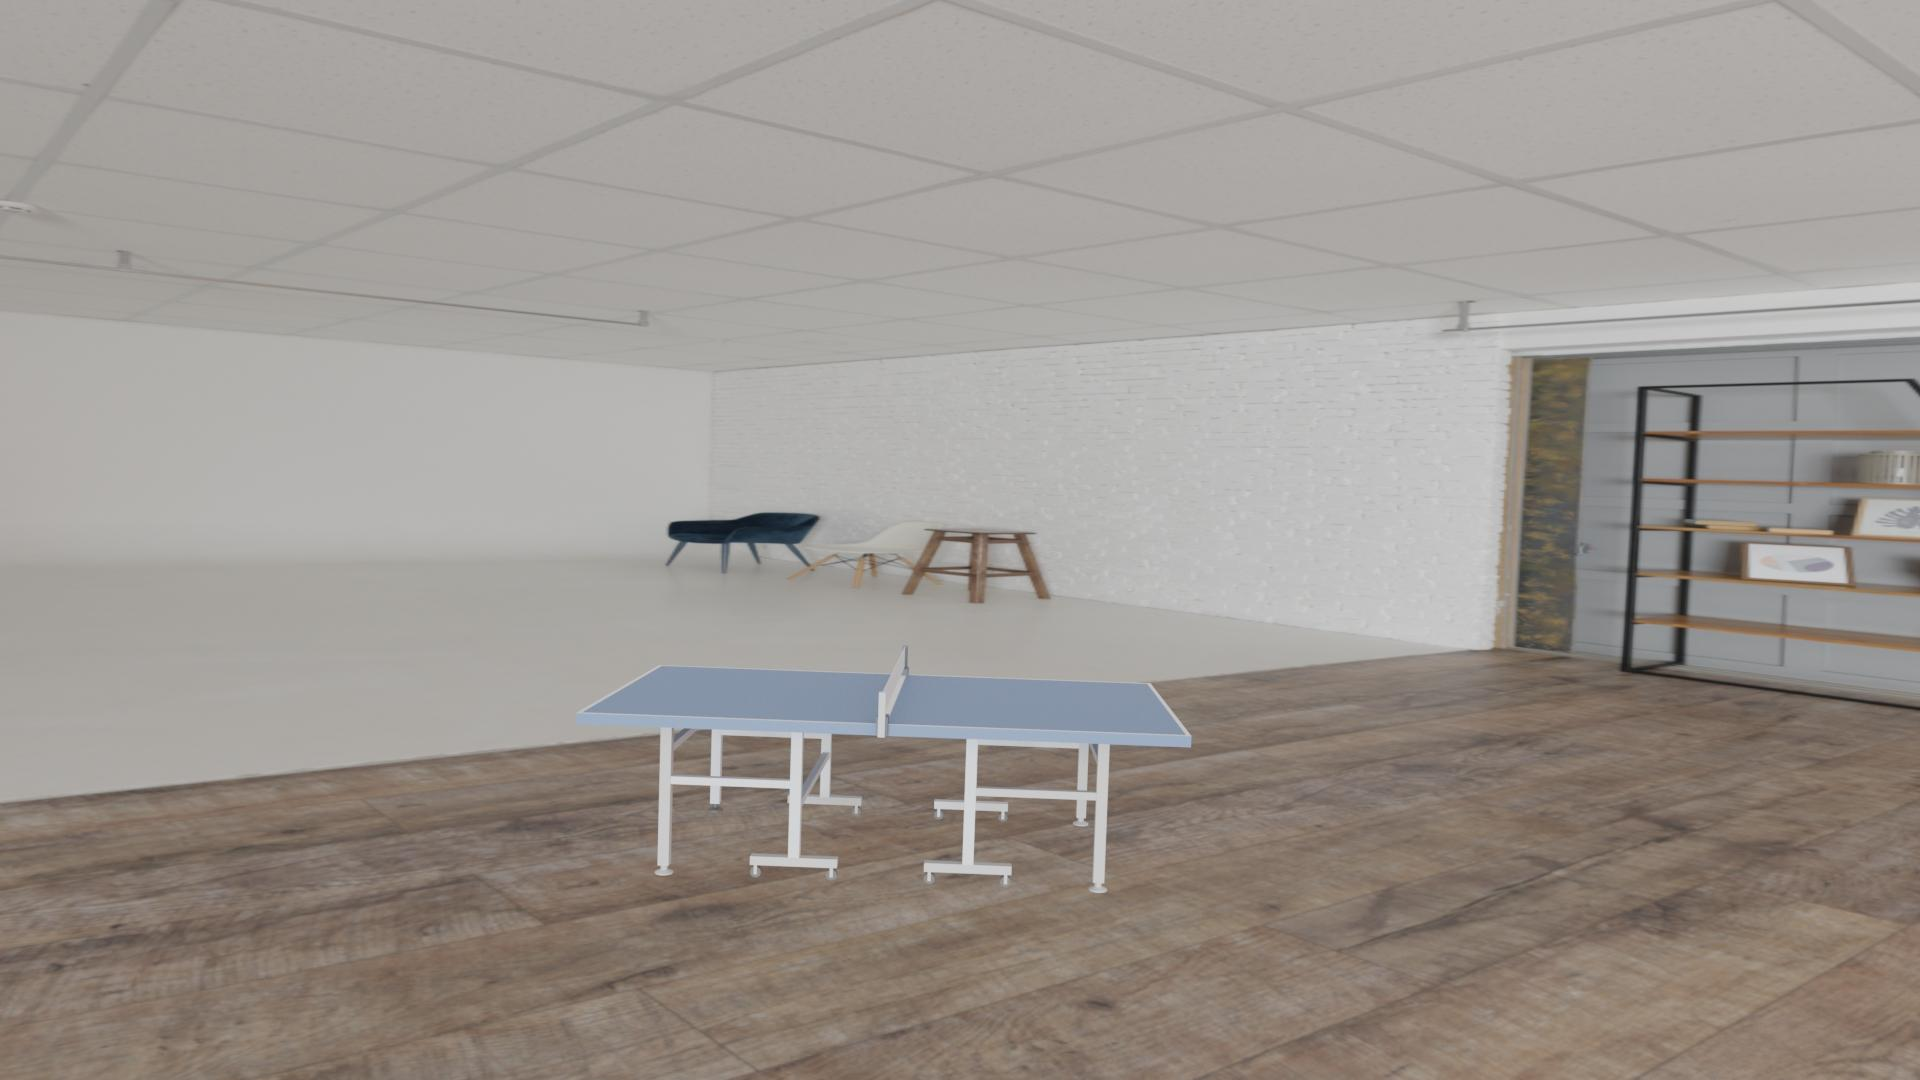table: (582, 666, 1187, 735)
